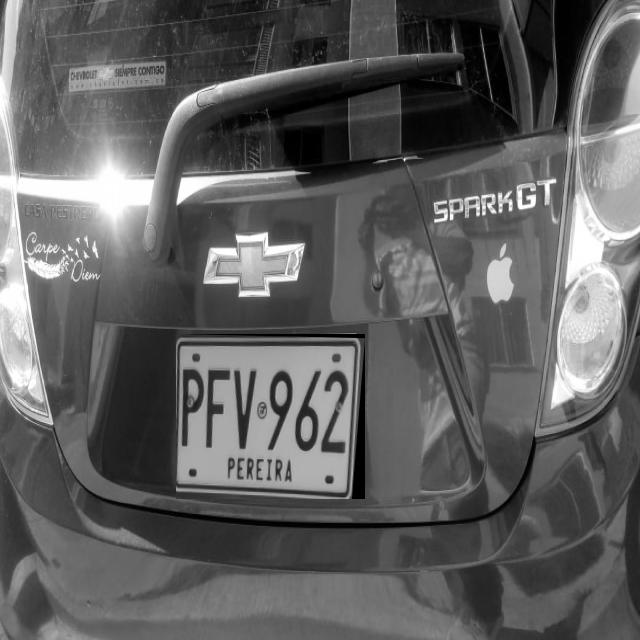plate: (176, 334, 365, 499)
